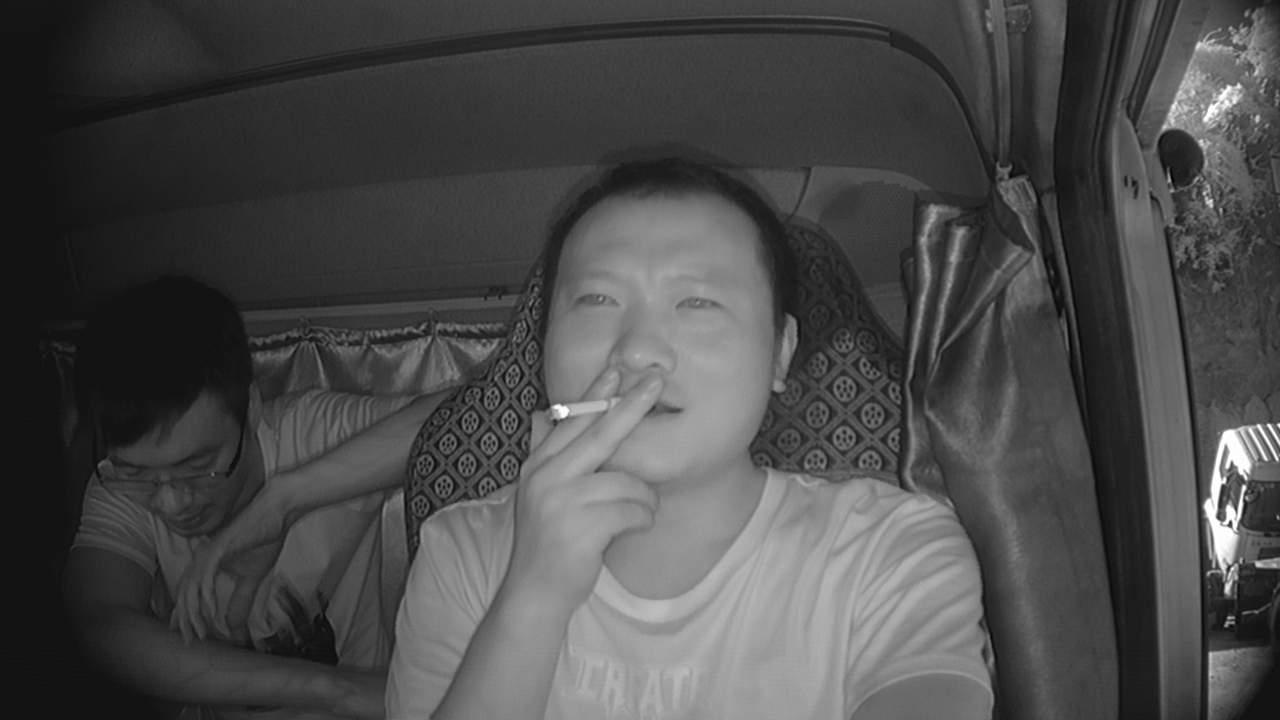hand: (527, 377, 674, 543)
